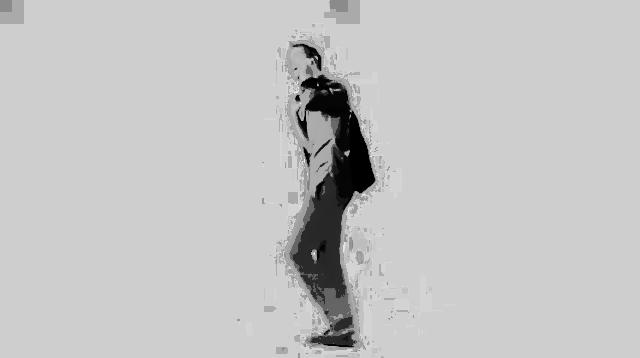berjalan: (275, 36, 385, 353)
